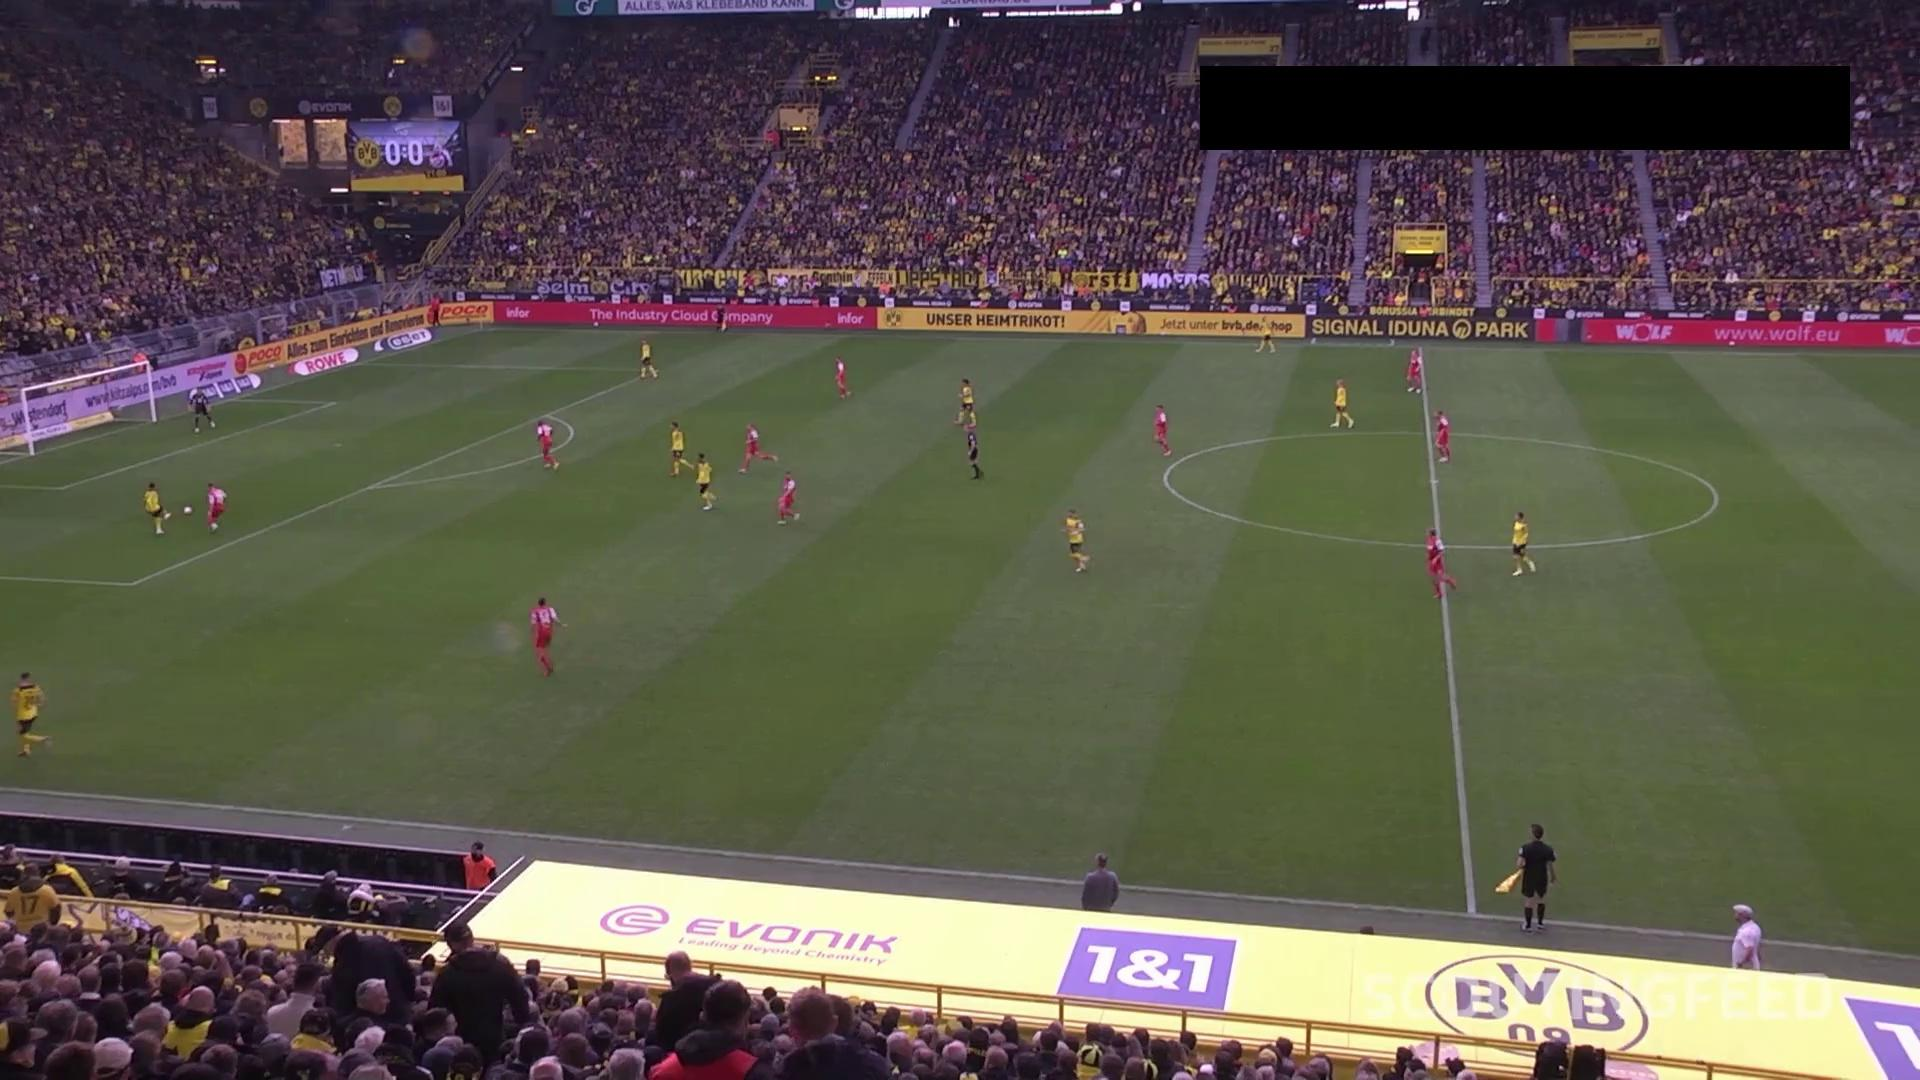Location-of-ball: (181, 498, 199, 522)
